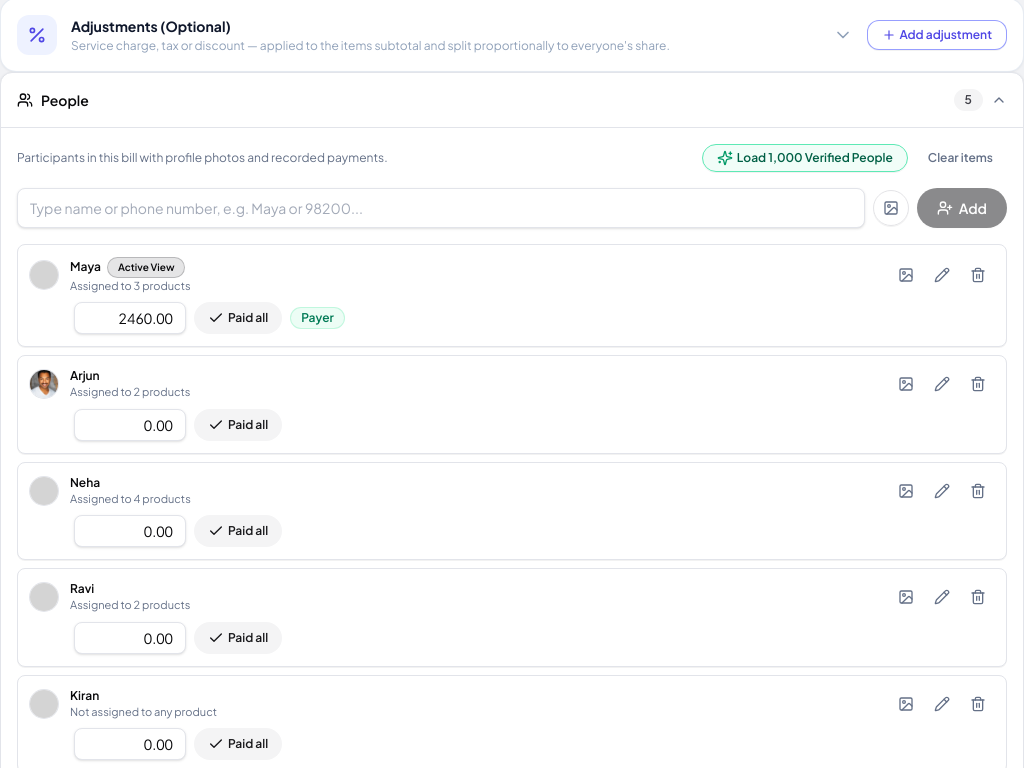
Test: dashboard › removing an assigned person requires confirmation
(page scrolled)
Click the button named "Remove Arjun" at (978, 384), box 962,368 -> 994,400
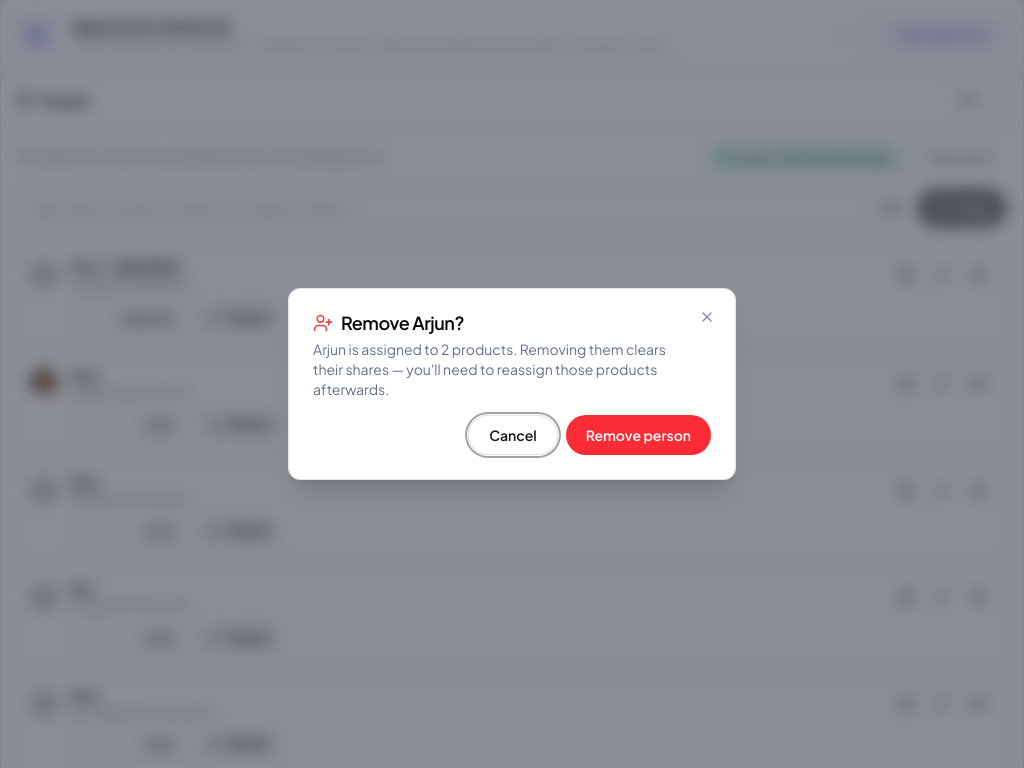
Expected: the heading "Remove Arjun?" is shown, 313,311 -> 464,334
Expected: the text "assigned to 2 products" is shown, 313,340 -> 666,398
Click the button "Remove person" at (638, 435), box 566,415 -> 711,455
(page scrolled)
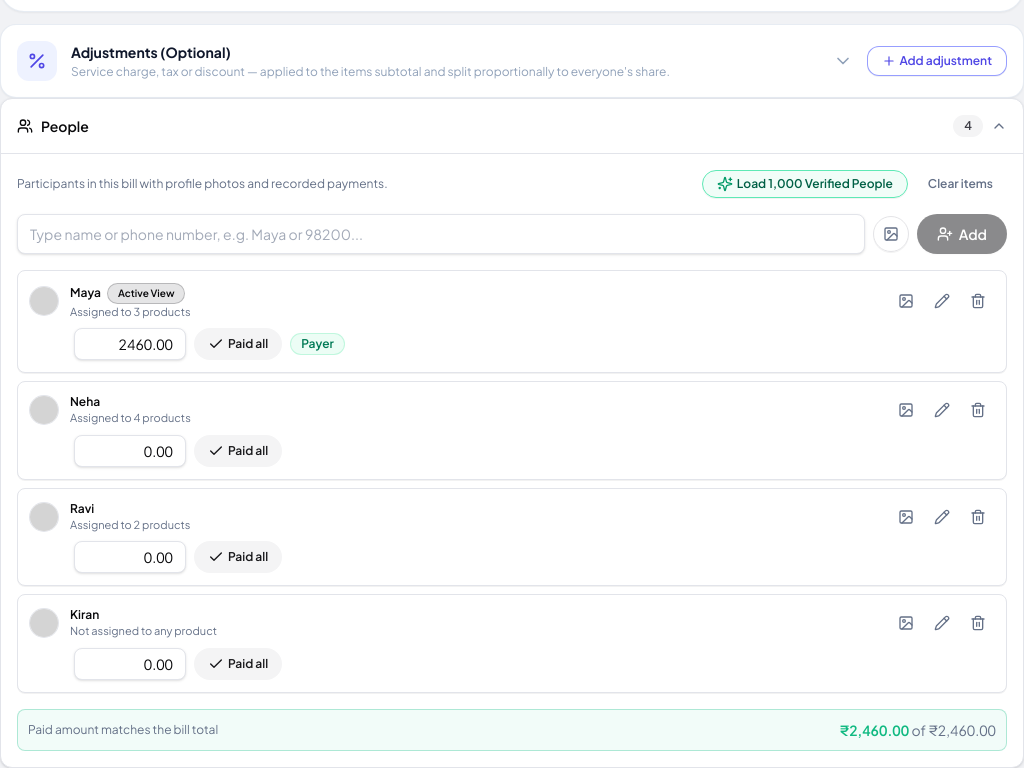
Expected: the button "Arjun" is gone
Expected: the number of fields named "Amount paid by " is 4, 74,328 -> 186,360; 74,434 -> 186,466; 74,541 -> 186,573; 74,648 -> 186,680
